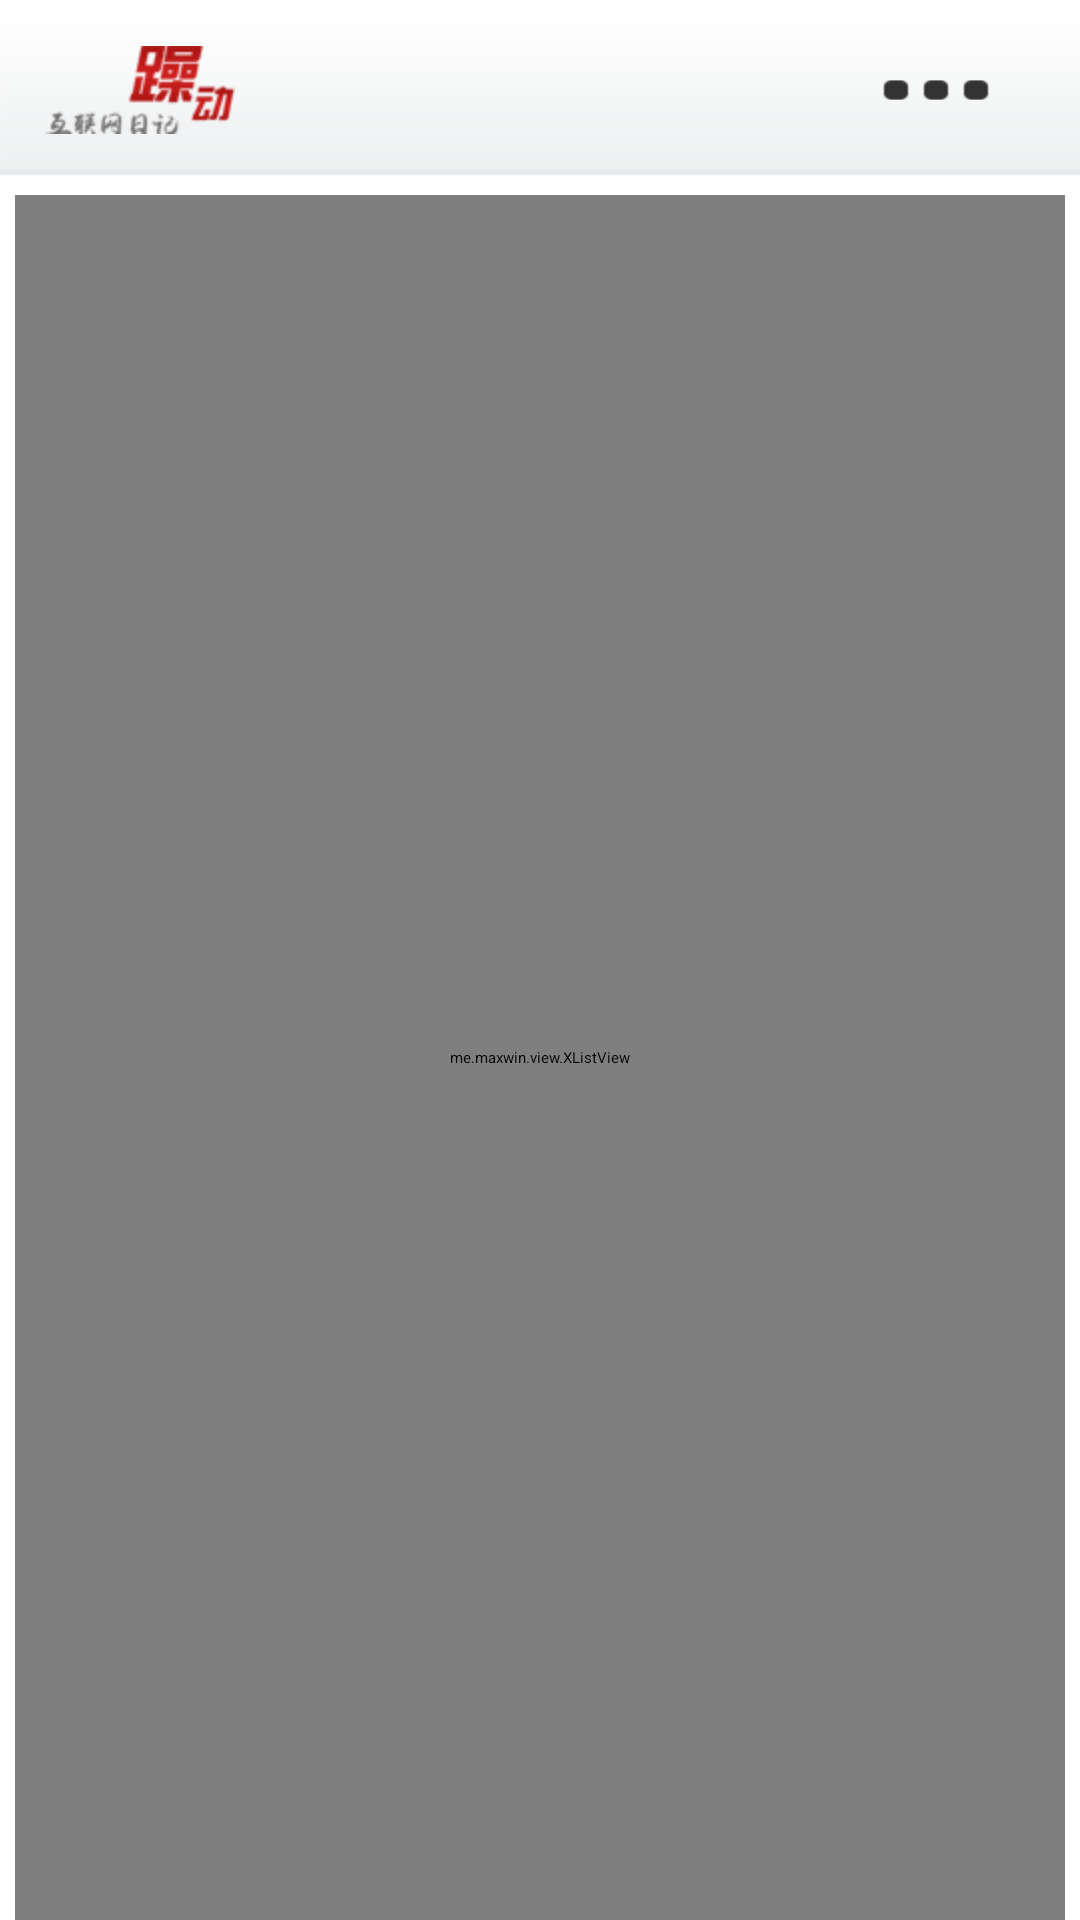

Point at icon controls on the screen. Image size 1080*1920, points as [x,y].
more tab ui: [936,90]
